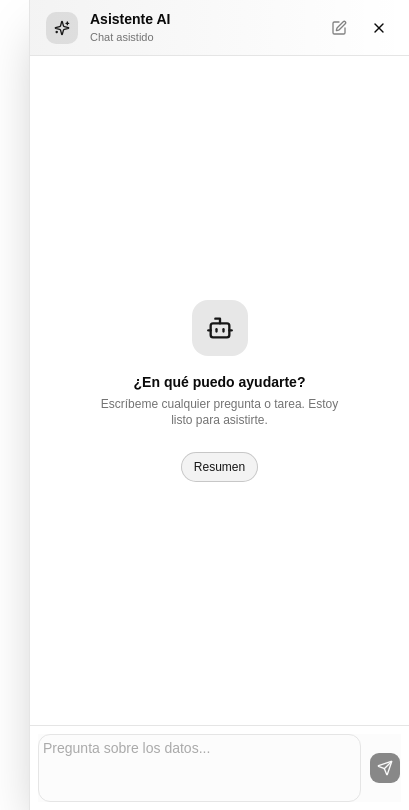
Test: sends the typed message with Enter
Type "hola" into the text box with placeholder "Pregunta sobre los datos...". click: (200, 768)
box: [38,734,361,802]
Then press Enter
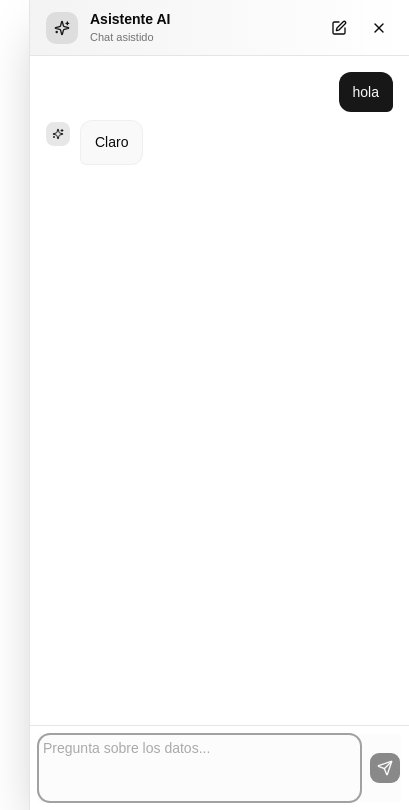
Result: the text "hola" is shown at [352,82,379,102]
Result: the text "Claro" is shown at [95,134,128,150]
